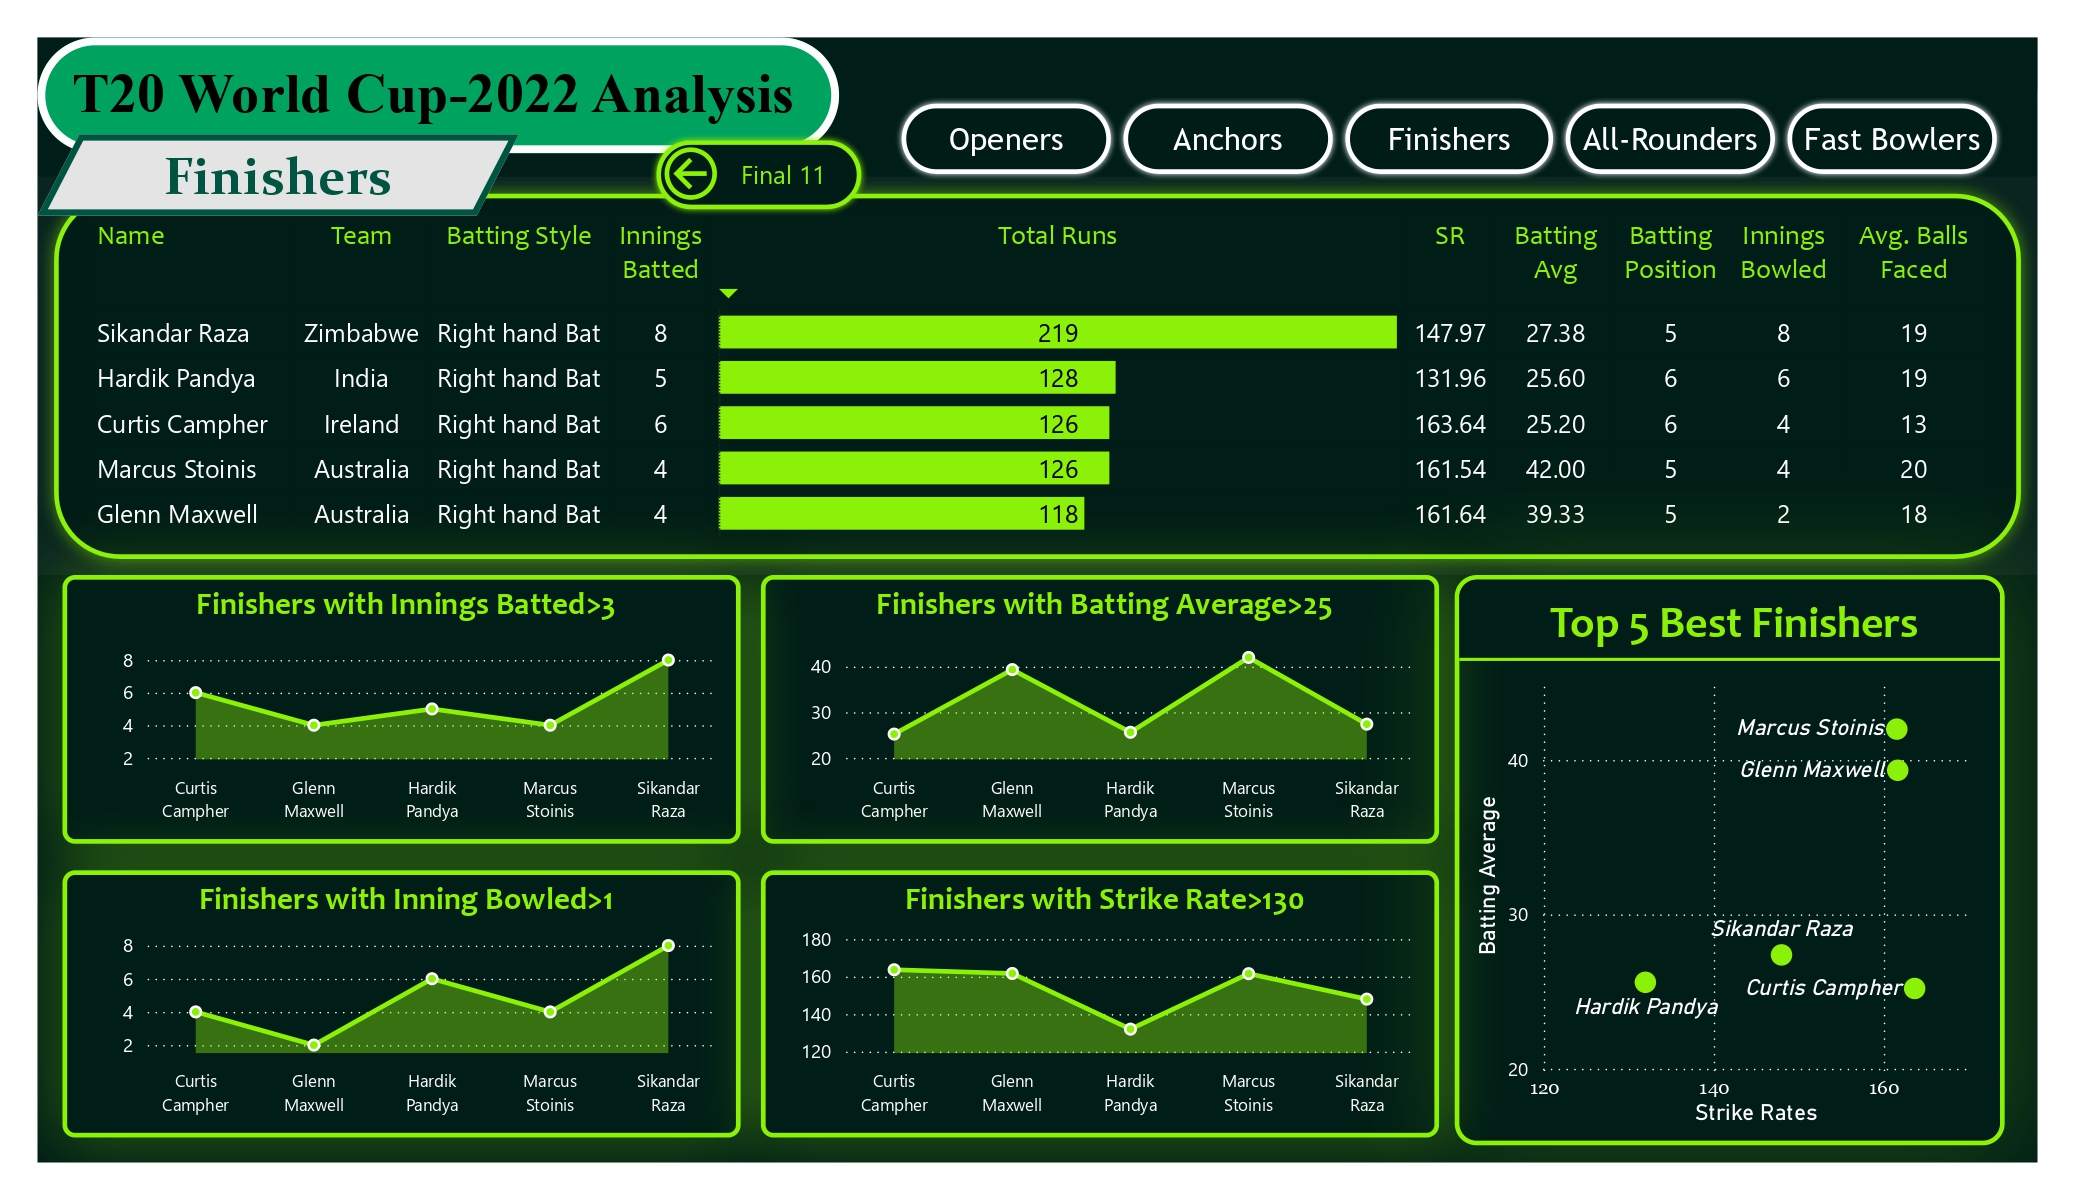

Layout of this report page (visuals, bound fields, positions):
{"tool":"powerbi","page":{"name":"Finishers","canvas":[1280,720],"ordinal":2},"visuals":[{"type":"shape","box":[0,0,513.3,73.7],"z":0},{"type":"shape","box":[0,88.6,1280,255.7],"z":1000},{"type":"tableEx","fields":{"Values":["dim_players.name","dim_players.team","dim_players.battingStyle","Key measures.Total Innings Batted","Key measures.Total Runs","Key measures.Strike rate","Key measures.Batting Avg","Key measures.Batting Position","Key measures.Total Innings Bowled","Key measures.Avg. Balls Faced"]},"box":[27.1,105.7,1231.4,224.3],"z":2000},{"type":"stackedAreaChart","title":"Finishers with Batting Average>25","fields":{"Category":["dim_players.name"],"Y":["Key measures.Batting Avg"]},"box":[462.9,344.3,434.3,171.4],"z":3000},{"type":"stackedAreaChart","title":"Finishers with Innings Batted>3","fields":{"Category":["dim_players.name"],"Y":["Key measures.Total Innings Batted"]},"box":[15.7,344.3,434.3,171.4],"z":4000},{"type":"stackedAreaChart","title":"Finishers with Inning Bowled>1","fields":{"Category":["dim_players.name"],"Y":["Key measures.Total Innings Bowled"]},"box":[15.7,532.9,434.3,171.4],"z":5000},{"type":"stackedAreaChart","title":"Finishers with Strike Rate>130","fields":{"Category":["dim_players.name"],"Y":["Key measures.Strike rate"]},"box":[462.9,532.9,434.3,171.4],"z":6000},{"type":"scatterChart","title":"Top 5 Best Finishers","fields":{"X":["Key measures.Strike rate"],"Y":["Key measures.Batting Avg"],"Category":["dim_players.name"]},"box":[907.1,344.3,351.4,364.3],"z":7000},{"type":"shape","box":[0,62.2,308,52],"z":8000},{"type":"shape","box":[0,5.8,506,62.2],"z":9000},{"type":"actionButton","box":[549.4,37.6,141.7,53.5],"z":10000},{"type":"actionButton","box":[691.1,37.6,141.7,53.5],"z":11000},{"type":"actionButton","box":[832.8,37.6,141.7,53.5],"z":12000},{"type":"actionButton","box":[974.5,37.6,141.7,53.5],"z":13000},{"type":"actionButton","box":[1116.1,37.6,141.7,53.5],"z":14000},{"type":"actionButton","box":[391.8,60.7,140.2,53.5],"z":15000}]}

Visuals, with their boxes on the page's 1280x720 design canvas (x1, y1, x2, y2). These are canvas units, not pixel positions in the 2075x1200 screenshot, which may show the page scaled, cropped or inside an application window:
shape: 0/0/513/74
shape: 0/89/1280/344
tableEx - dim_players.name x dim_players.team: 27/106/1258/330
"Finishers with Batting Average>25" stackedAreaChart: 463/344/897/516
"Finishers with Innings Batted>3" stackedAreaChart: 16/344/450/516
"Finishers with Inning Bowled>1" stackedAreaChart: 16/533/450/704
"Finishers with Strike Rate>130" stackedAreaChart: 463/533/897/704
"Top 5 Best Finishers" scatterChart: 907/344/1258/709
shape: 0/62/308/114
shape: 0/6/506/68
actionButton: 549/38/691/91
actionButton: 691/38/833/91
actionButton: 833/38/974/91
actionButton: 974/38/1116/91
actionButton: 1116/38/1258/91
actionButton: 392/61/532/114
